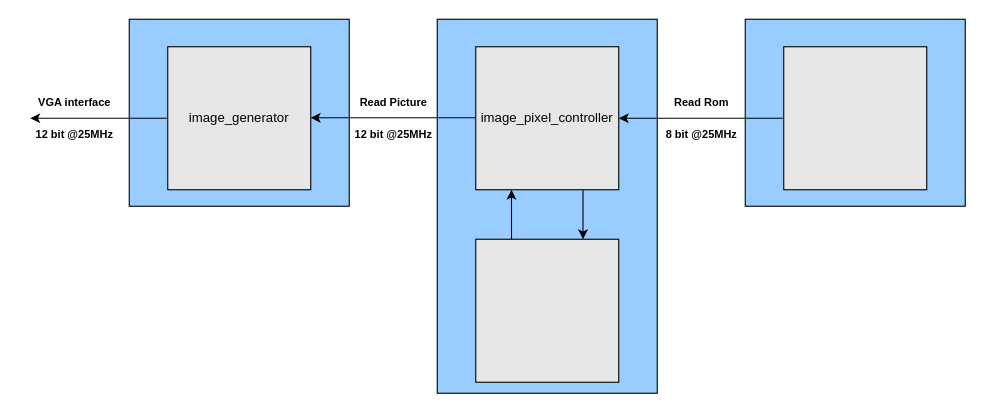
The diagram is 985 pixels wide and 413 high, and some of its shapes have lost their labels. The centre of each missing label's shape, as x and y in pixels:
"ROM" belongs at point (855, 118).
"vga_controller" belongs at point (547, 310).
